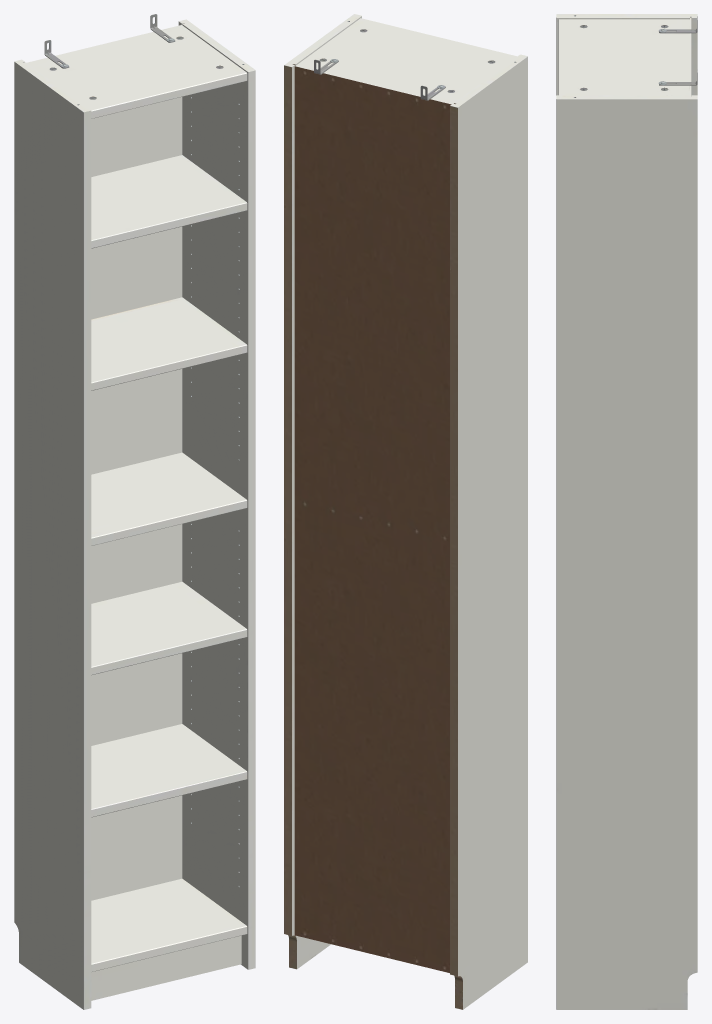
The picture shows the model from 3 angles, left to right: view 1: azimuth 30°, elevation 25°; view 2: azimuth 150°, elevation 25°; view 3: azimuth 270°, elevation 25°; orthographic projection.
Visible parts, largest first — view 1: Mesh_0; view 2: Mesh_0; view 3: Mesh_0.
Part boxes in pixels (left/top/right/bottom): Mesh_0: left=14, top=14, right=255, bottom=1009; Mesh_0: left=284, top=14, right=527, bottom=1009; Mesh_0: left=556, top=14, right=697, bottom=1009.
Bounding box in the file's own units: 0.4 × 2.02 × 0.2799.
Materials: 1 (1 with a texture image).
